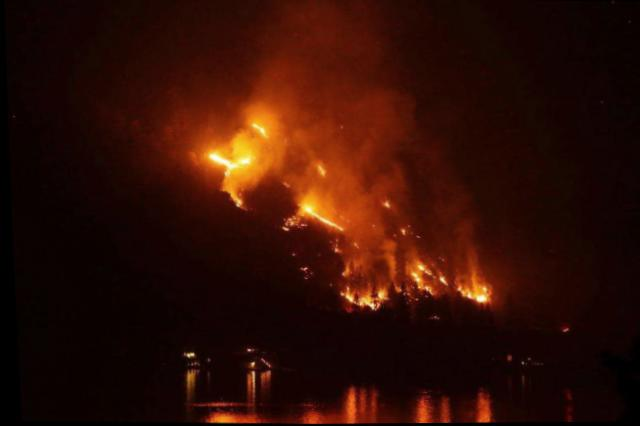fire: (331, 245, 494, 309), (204, 115, 284, 187), (288, 159, 344, 233)
